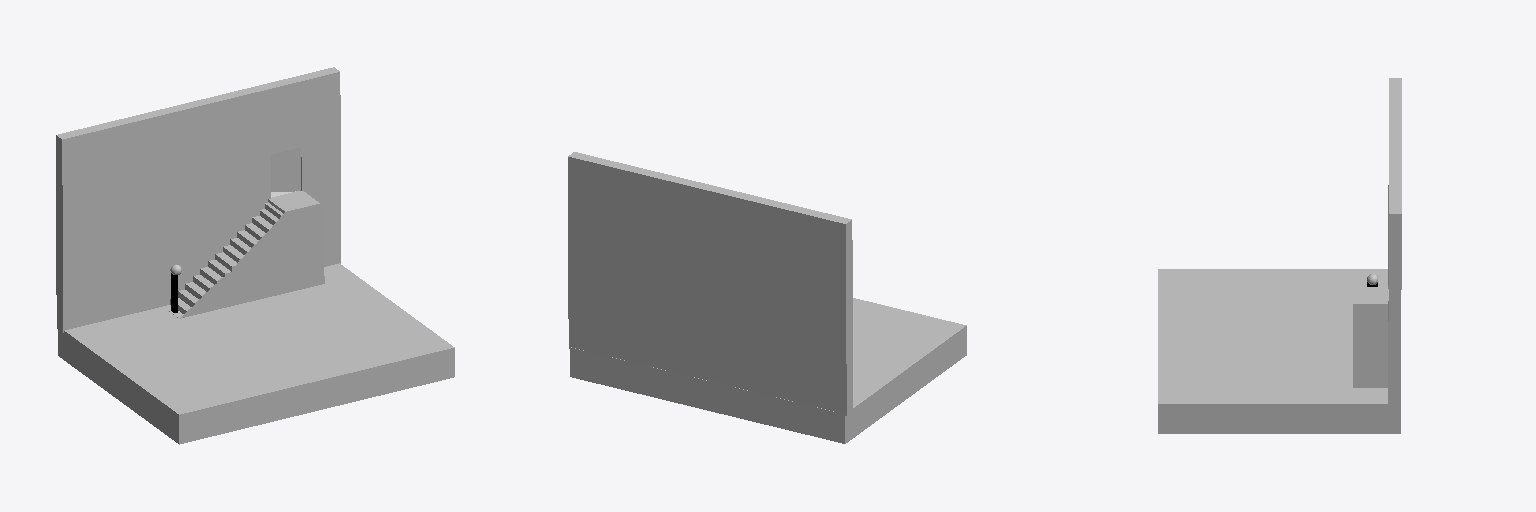
Rendered from basic_scene.obj.
3 renders of one model, left to right at view 1: azimuth 30°, elevation 25°; view 2: azimuth 150°, elevation 25°; view 3: azimuth 270°, elevation 25°, orthographic.
Parts seen in each view (by area): view 1: back_Plane, floor_Plane.001, stairs_Cube; view 2: back_Plane, floor_Plane.001; view 3: floor_Plane.001, back_Plane, stairs_Cube.
Boxes of the visible parts, x1=… form: back_Plane: x1=56, y1=67, x2=340, y2=332; floor_Plane.001: x1=58, y1=263, x2=454, y2=444; stairs_Cube: x1=163, y1=191, x2=324, y2=318; back_Plane: x1=568, y1=152, x2=852, y2=415; floor_Plane.001: x1=570, y1=298, x2=966, y2=443; floor_Plane.001: x1=1158, y1=269, x2=1400, y2=433; back_Plane: x1=1388, y1=78, x2=1401, y2=405; stairs_Cube: x1=1353, y1=287, x2=1388, y2=387.
Size of the model in its own units: 5.01 by 3.8 by 3.8.